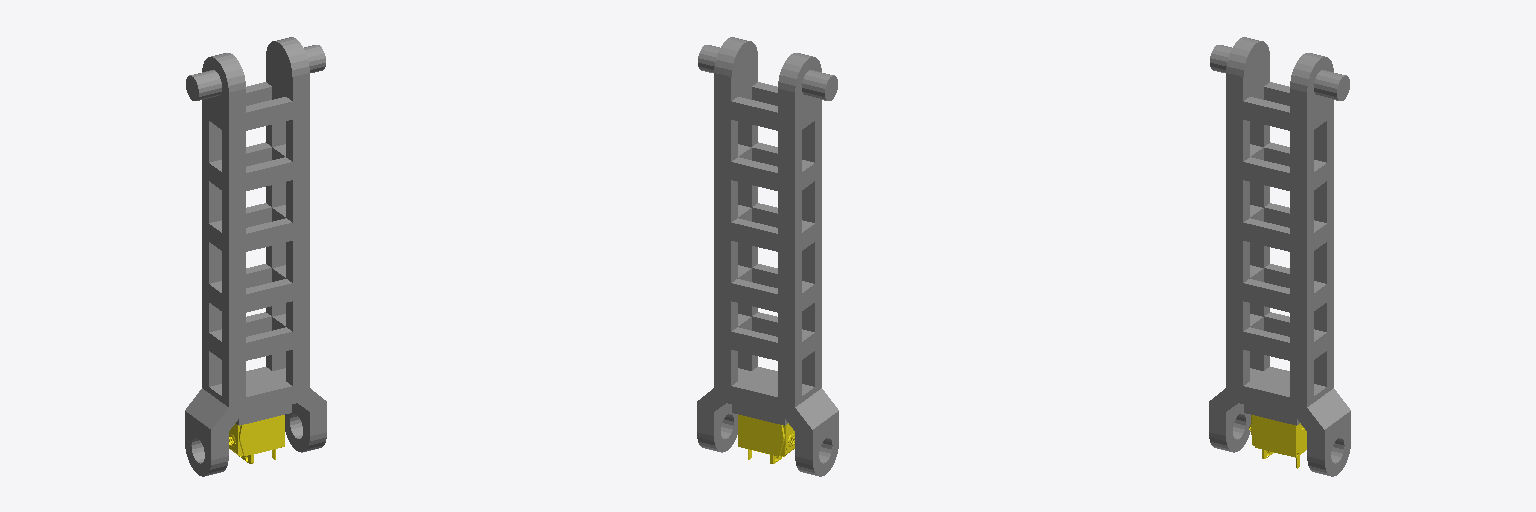
The picture shows the model from 3 angles: view 1: azimuth 30°, elevation 25°; view 2: azimuth 150°, elevation 25°; view 3: azimuth 330°, elevation 25°; orthographic projection.
Visible parts, largest first — view 1: b1 v6, Body4, Body6; view 2: b1 v6, Body4, Body5; view 3: b1 v6, Body4, Body6.
Part boxes in pixels (x1,y1,x2,y2): b1 v6: (185,37,326,476); Body4: (229,415,284,463); Body6: (254,416,277,453); b1 v6: (697,37,838,476); Body4: (738,414,794,463); Body5: (745,416,769,453); b1 v6: (1209,37,1350,476); Body4: (1249,415,1306,458); Body6: (1264,418,1288,455).
Bounding box in the file's own units: 0.11 × 0.3421 × 0.04.